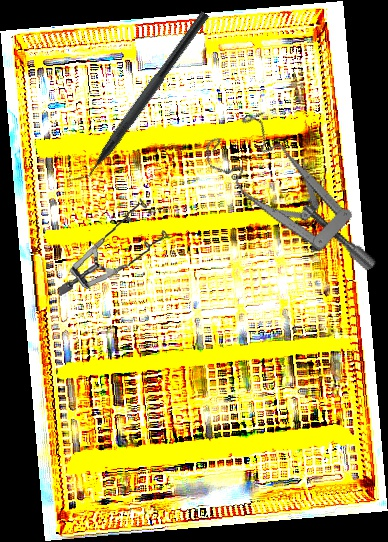Chopper: (65, 2, 210, 195)
Speculum: (197, 92, 378, 312), (51, 195, 172, 297)
